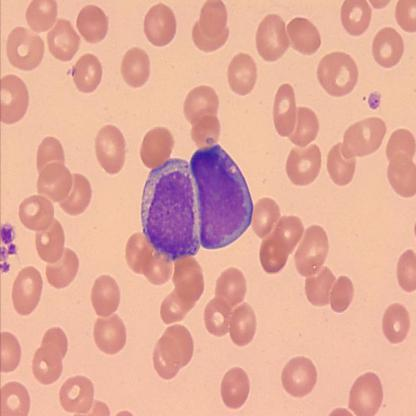Blast: (189, 141, 255, 252), (140, 155, 204, 266)
